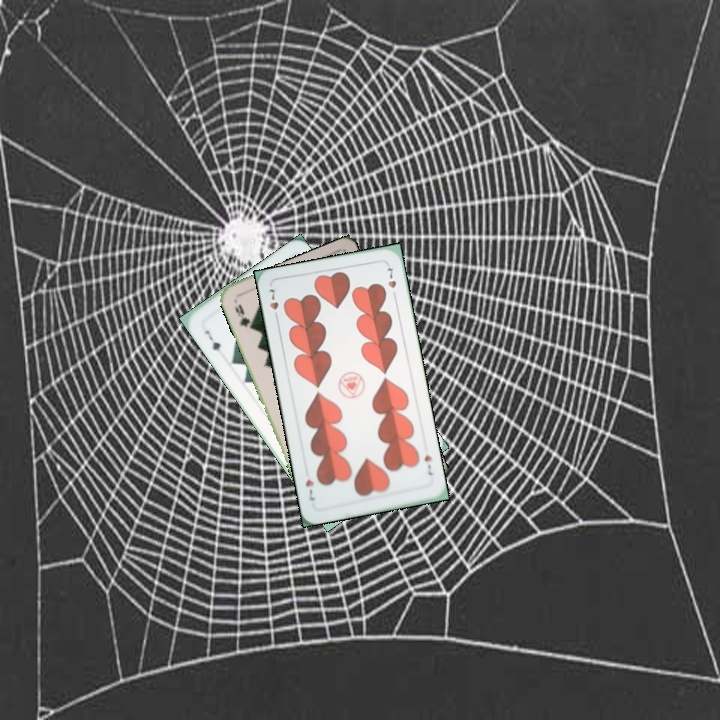G7: (201, 326, 223, 354)
G9: (230, 300, 256, 332)
H7: (265, 285, 281, 323), (420, 451, 435, 478)
